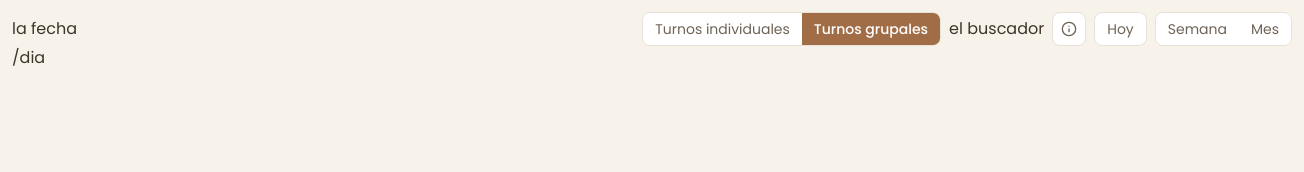
Test case: BarraAgenda › con las clases activas, tocar Semana navega
What coordinates should you click on to do the following:
click the button "Semana"
I would click on:
 (1197, 29)
Its box is [1156,13,1239,45].
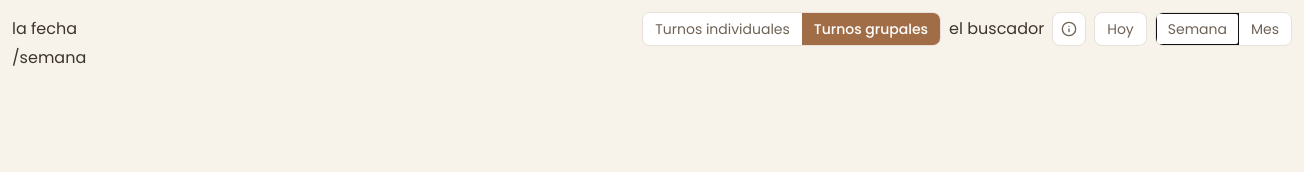
Check: the text with test id "ubicacion" reads "/semana", box [12,46,86,69]
